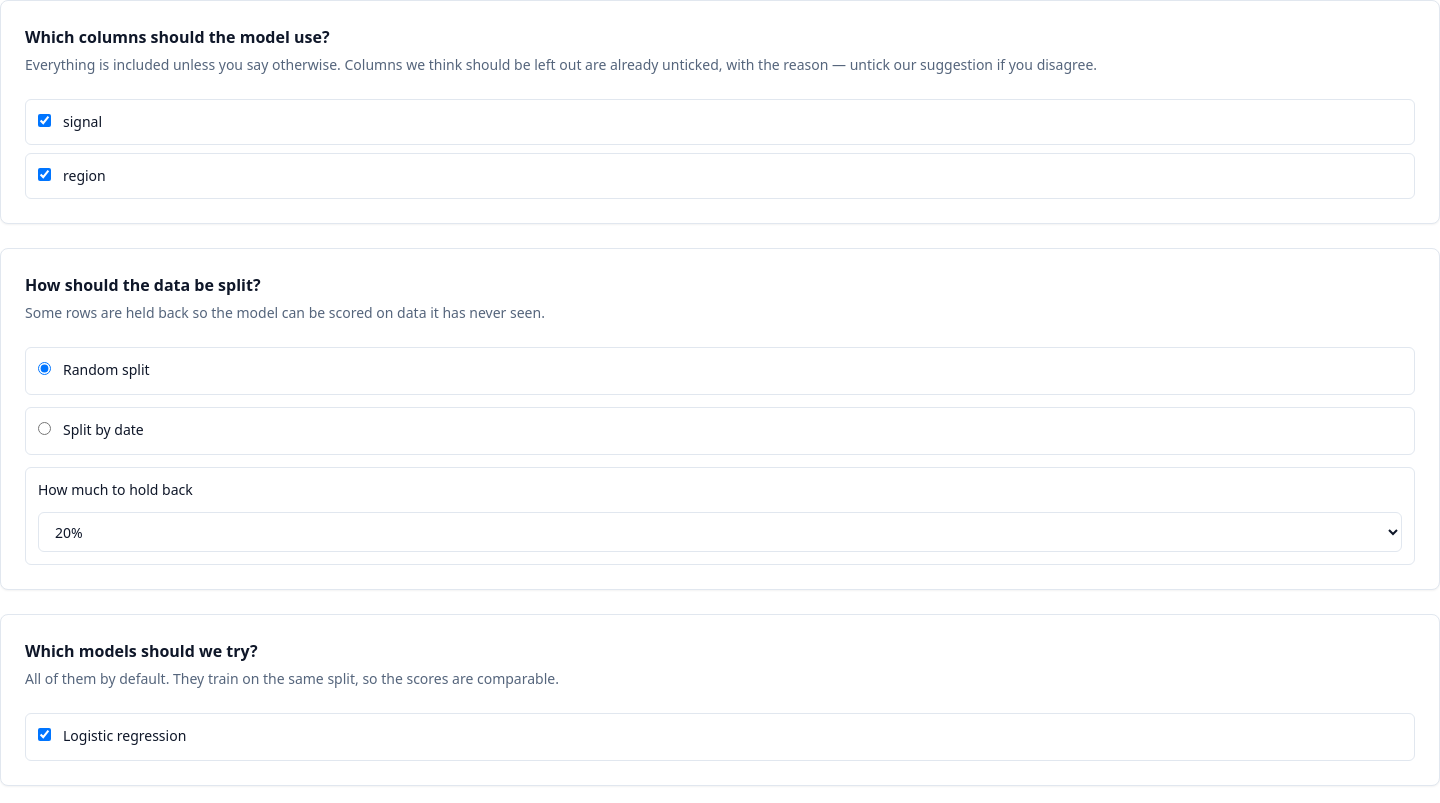
Test case: ModelPlanForm — a gap between training and test (#20) › is offered only for a date split
Click the radio button labelled "Split by date": (44, 428) [38,422,51,435]
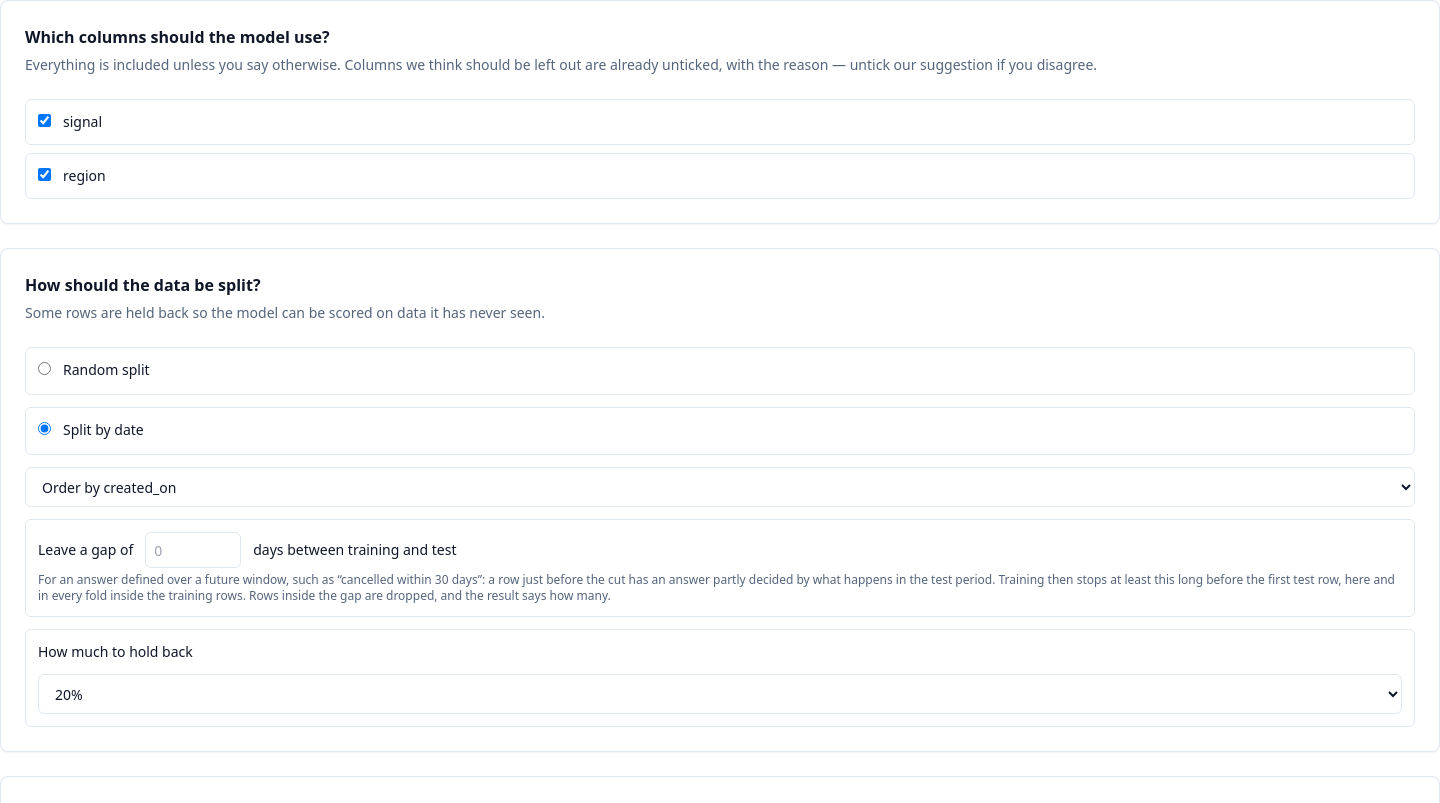
Now the number field named "Days to leave between training and test" is shown, box [145,532,241,568]
